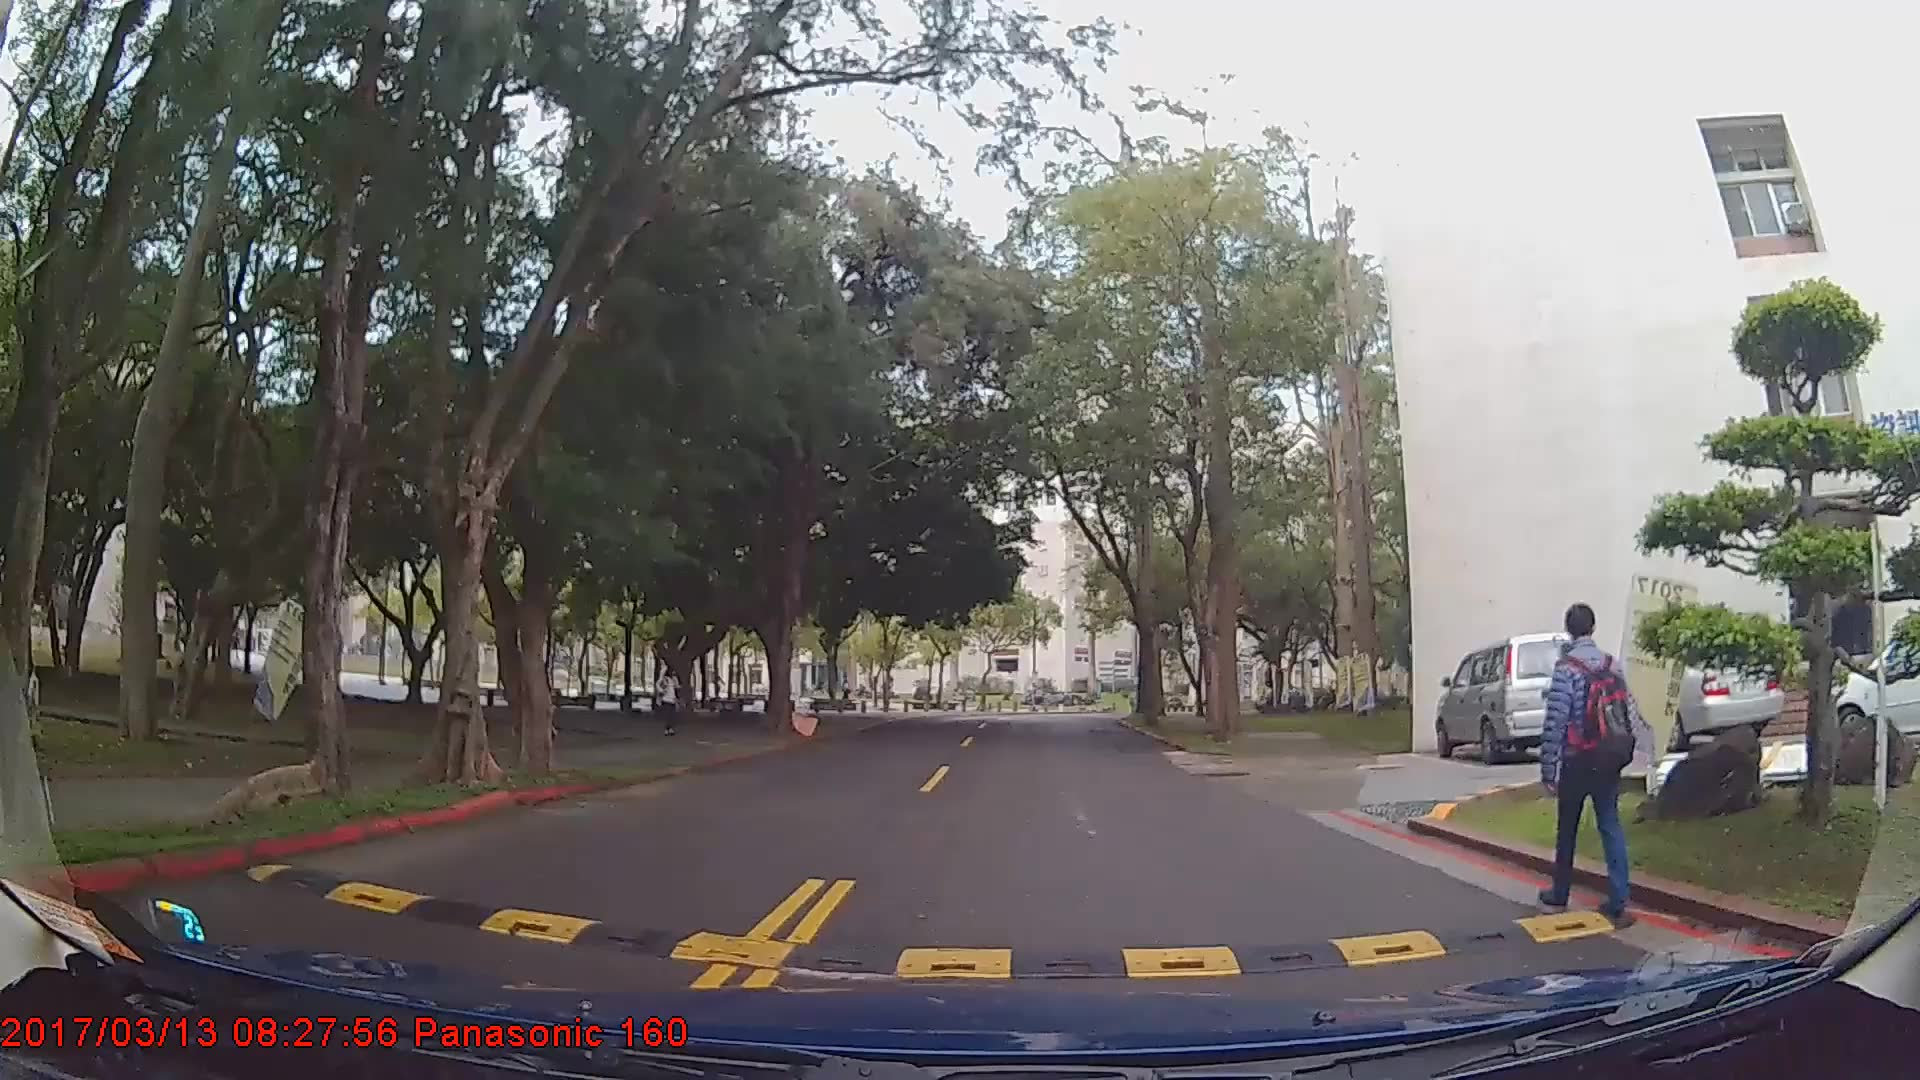pedestrian: (1537, 595, 1640, 917), (654, 665, 684, 737)
vehicle: (1433, 629, 1590, 761)
